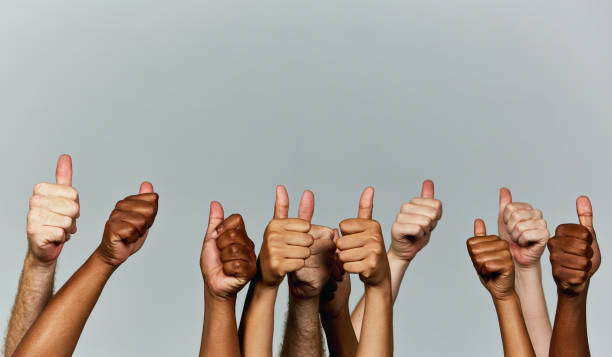thumbsup: (24, 153, 82, 261), (198, 199, 259, 295), (548, 195, 604, 295), (102, 178, 160, 264), (262, 185, 313, 275), (338, 185, 383, 276), (392, 178, 444, 255), (299, 188, 336, 291), (497, 185, 549, 257), (465, 217, 516, 287)
